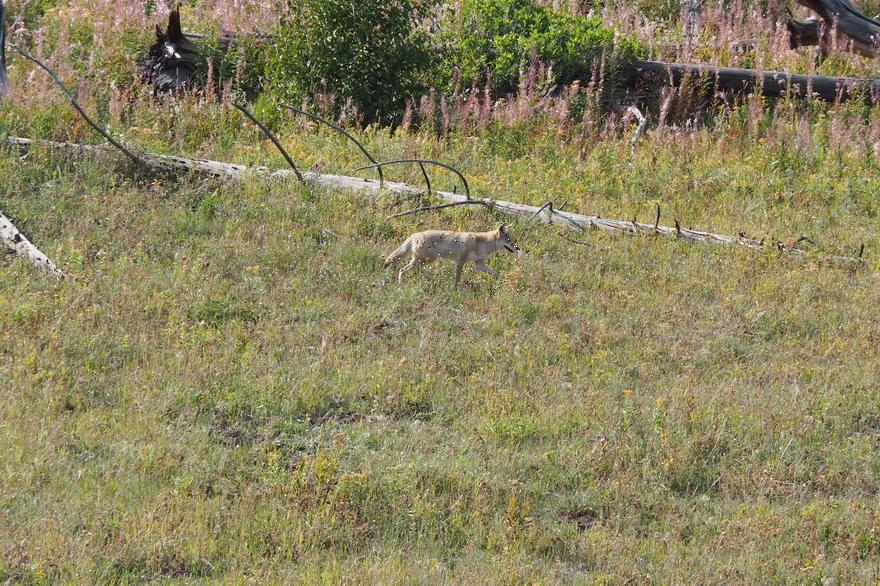Coyote: (380, 227, 520, 291)
